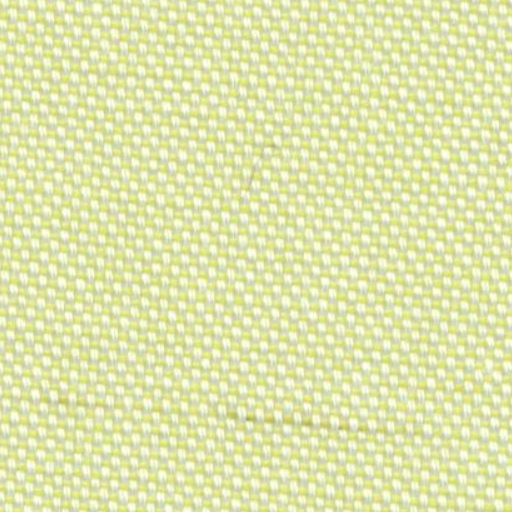WuZi: (241, 390, 380, 451)
